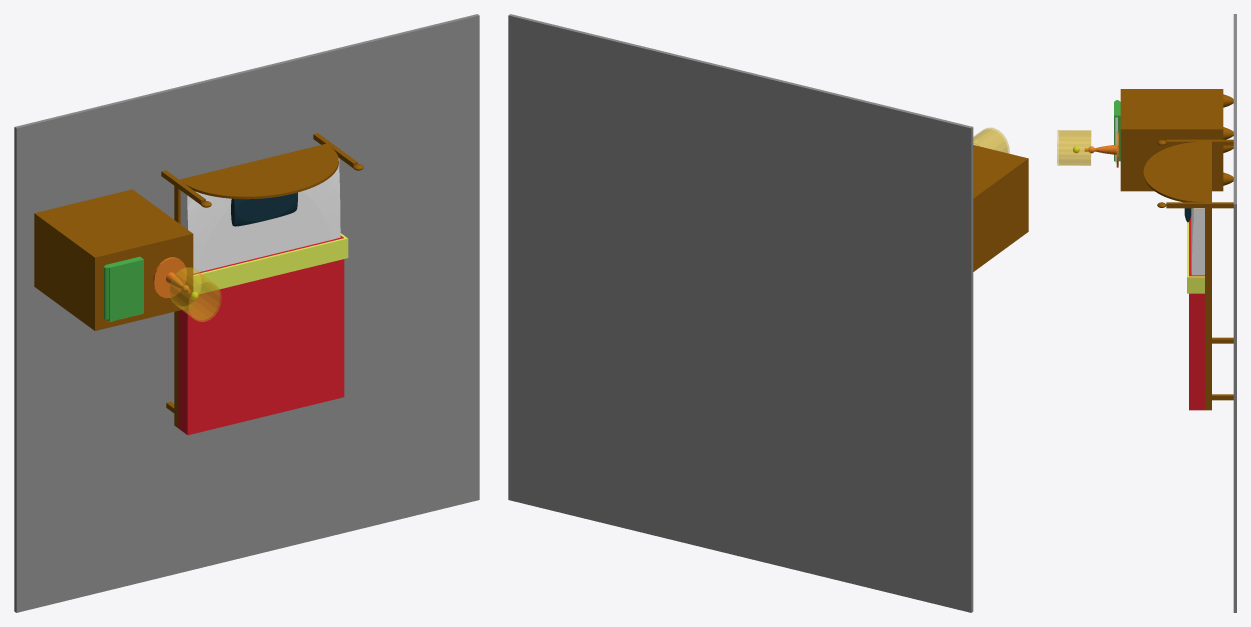
Rendered from tinker.obj.
The picture shows the model from 3 angles, left to right: view 1: azimuth 30°, elevation 25°; view 2: azimuth 150°, elevation 25°; view 3: azimuth 270°, elevation 25°; orthographic projection. The views are drawn at different scales.
Visible parts, largest first — view 1: group_0_9803157, group_0_15277357, group_0_9788164, group_0_16448250, group_0_15662941, group_0_4634441, group_0_-1024079585, group_0_1061697, group_0_16089887; view 2: group_0_9803157, group_0_9788164; view 3: group_0_9788164, group_0_9803157, group_0_15277357, group_0_-1024079585, group_0_16448250, group_0_15662941, group_0_16089887, group_0_4634441.
Boxes of the visible parts, x1,y1,x2,y2 form: group_0_9803157: (14, 14, 479, 612); group_0_15277357: (178, 235, 344, 435); group_0_9788164: (34, 133, 363, 427); group_0_16448250: (107, 158, 340, 321); group_0_15662941: (193, 233, 348, 294); group_0_4634441: (104, 256, 143, 321); group_0_-1024079585: (169, 267, 221, 321); group_0_1061697: (231, 192, 297, 226); group_0_16089887: (153, 257, 191, 298); group_0_9803157: (508, 14, 973, 612); group_0_9788164: (973, 145, 1028, 271); group_0_9788164: (1120, 89, 1233, 410); group_0_9803157: (1233, 14, 1236, 612); group_0_15277357: (1189, 216, 1204, 410); group_0_-1024079585: (1057, 130, 1091, 165); group_0_16448250: (1115, 117, 1204, 275); group_0_15662941: (1187, 222, 1204, 293); group_0_16089887: (1084, 132, 1118, 167); group_0_4634441: (1114, 100, 1120, 161).
Size of the model in its own units: 198 by 198 by 79.
